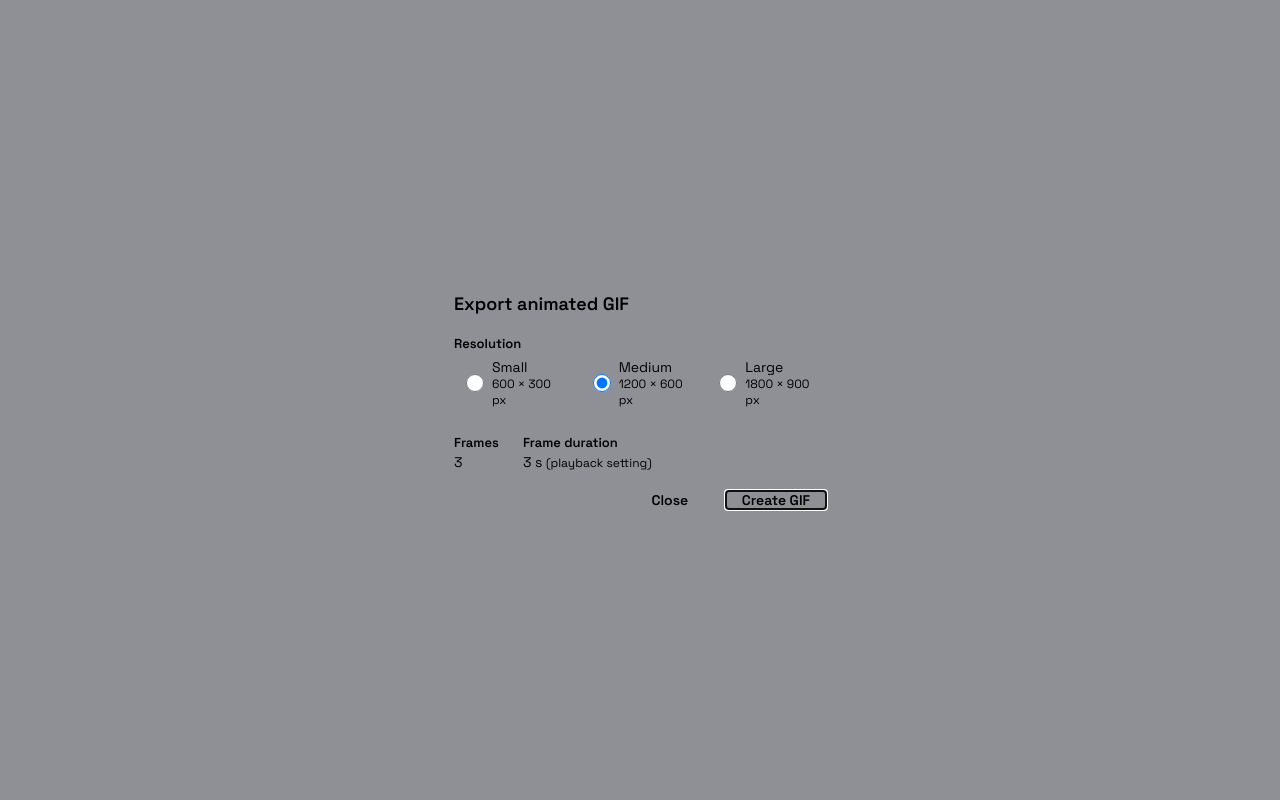
it: ExportAnimationDialog › while creating › Cancel aborts the export and offers Create GIF again
Click the button "Create GIF": (776, 500) x1=726 y1=490 x2=826 y2=508
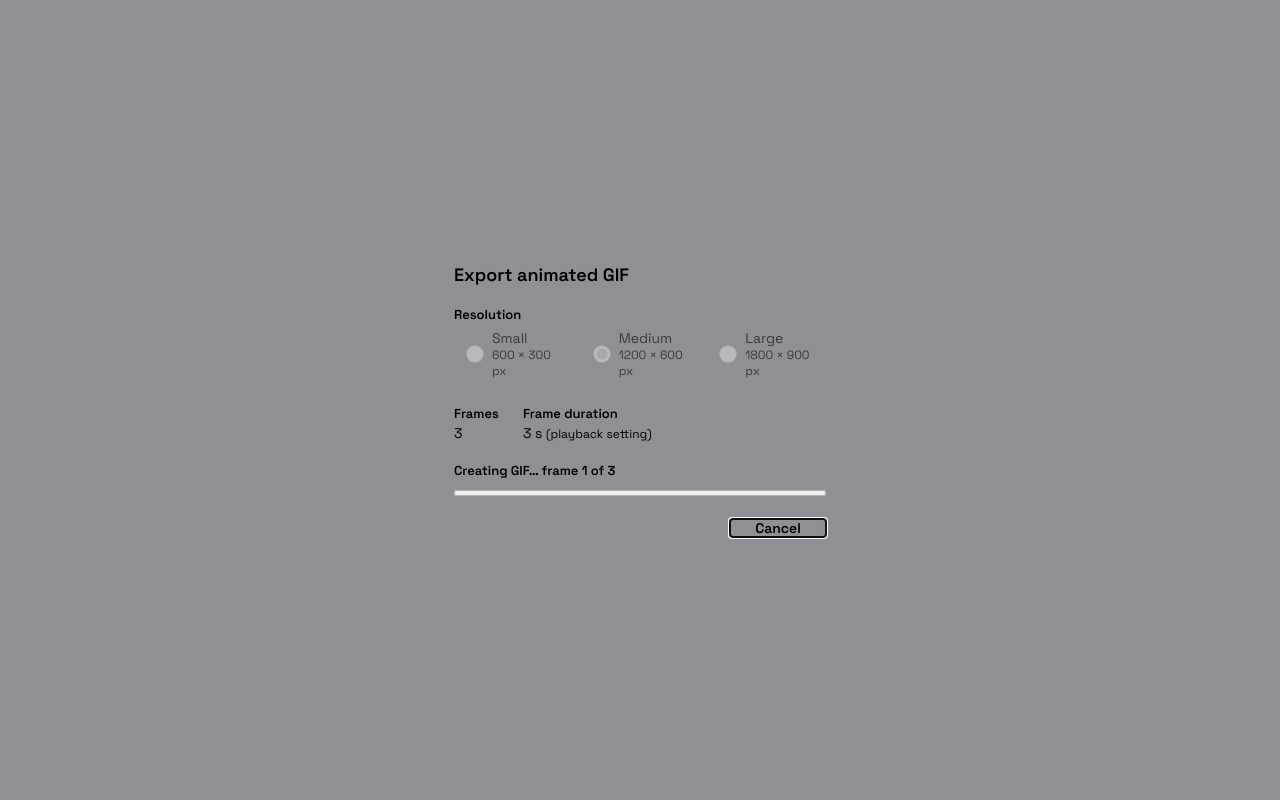
Click the button "Cancel": (778, 528) x1=730 y1=519 x2=826 y2=537
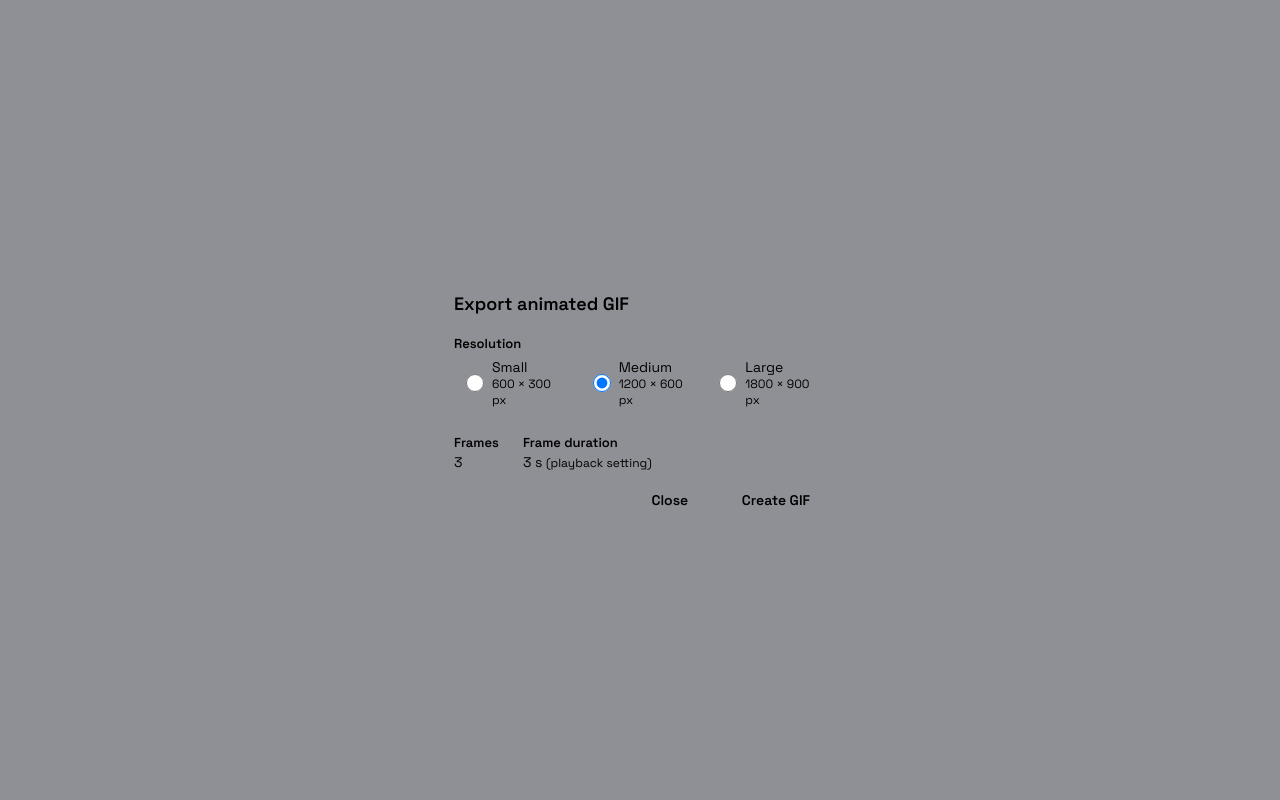
expect the progress indicator is gone: met
expect the button "Create GIF" is shown: met, box x1=726 y1=490 x2=826 y2=508
